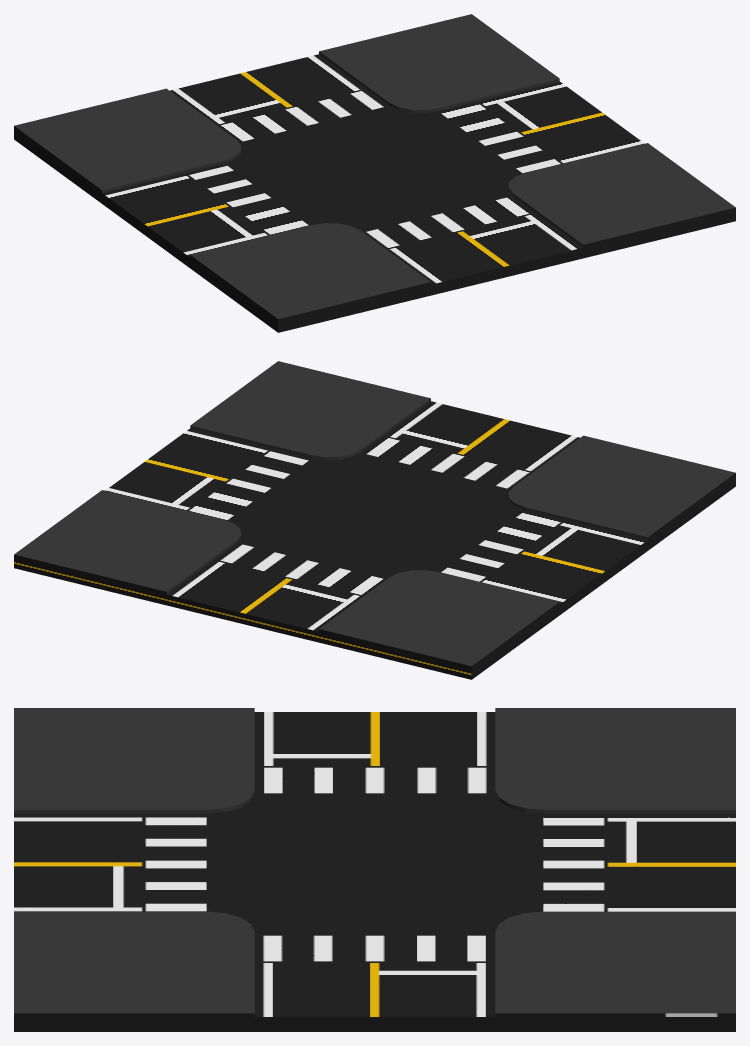
Rendered from intersection.fbx.
3 renders of one model, top to bottom at view 1: azimuth 30°, elevation 25°; view 2: azimuth 150°, elevation 25°; view 3: azimuth 270°, elevation 25°, orthographic. The views are drawn at different scales.
Visible parts, largest first — view 1: Cube; view 2: Cube; view 3: Cube.
Boxes of the visible parts, left/top/right/bottom form: Cube: left=14, top=14, right=735, bottom=332; Cube: left=14, top=361, right=735, bottom=679; Cube: left=14, top=708, right=735, bottom=1031.
Bounding box in the file's own units: 8400 × 240 × 8400.
2 materials, 1 textured.
